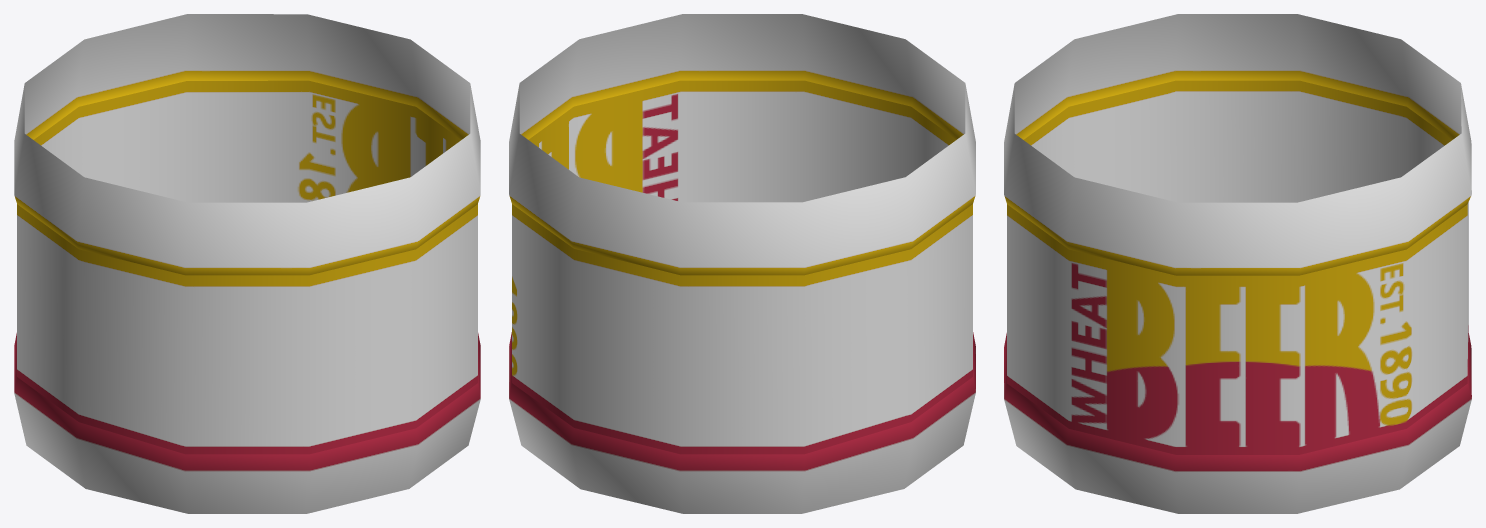
File: MiniKeg_01_Label_01.fbx
The picture shows the model from 3 angles, left to right: view 1: azimuth 30°, elevation 25°; view 2: azimuth 150°, elevation 25°; view 3: azimuth 270°, elevation 25°; orthographic projection.
Visible parts, largest first — view 1: MiniKeg_01_Label_01; view 2: MiniKeg_01_Label_01; view 3: MiniKeg_01_Label_01.
Part boxes in pixels (x1,y1,x2,y2): MiniKeg_01_Label_01: (14, 14, 480, 513); MiniKeg_01_Label_01: (509, 14, 975, 513); MiniKeg_01_Label_01: (1004, 14, 1471, 513).
Bounding box in the file's own units: 90.38 × 66.74 × 90.46.
